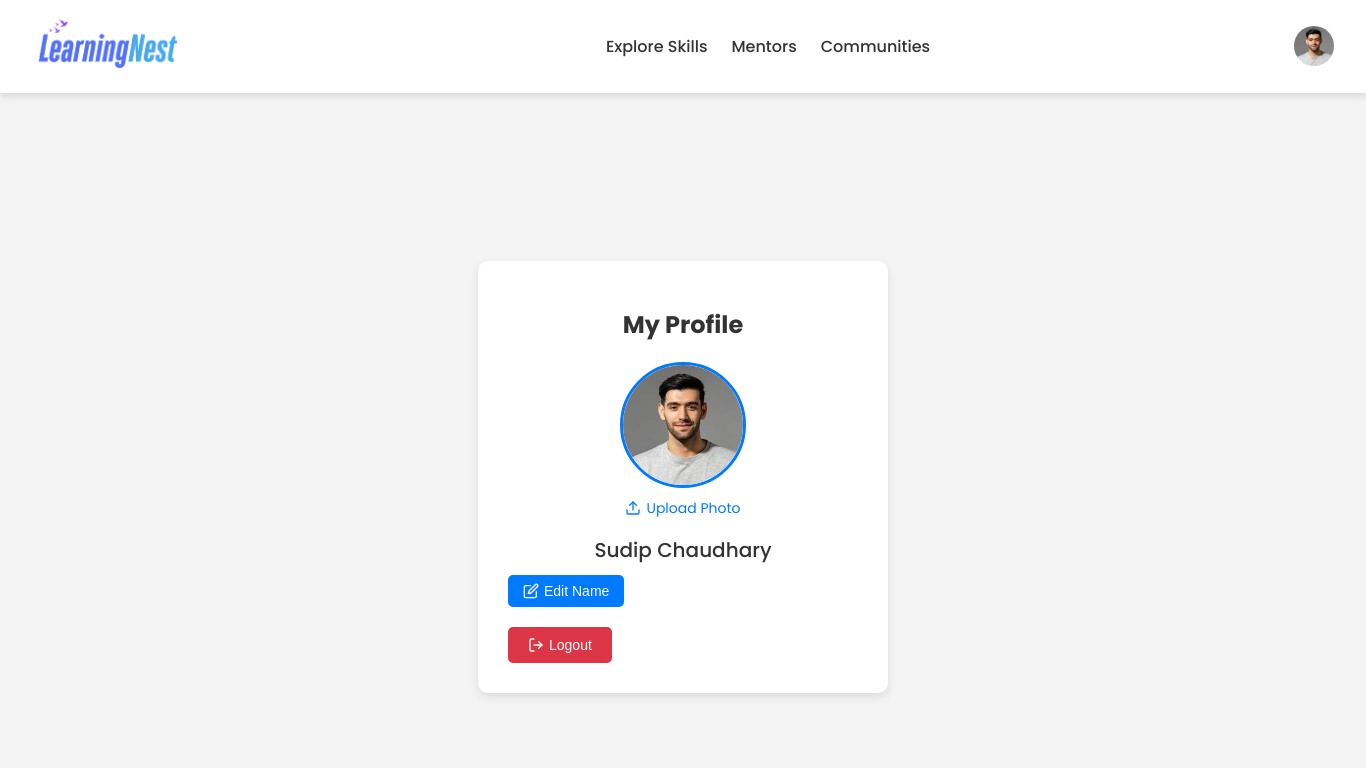
ProfilePage › toggles edit mode for name
Note: Click the edit button to enable editing
Click the button "Edit Name": click(566, 591) [508,575,624,607]
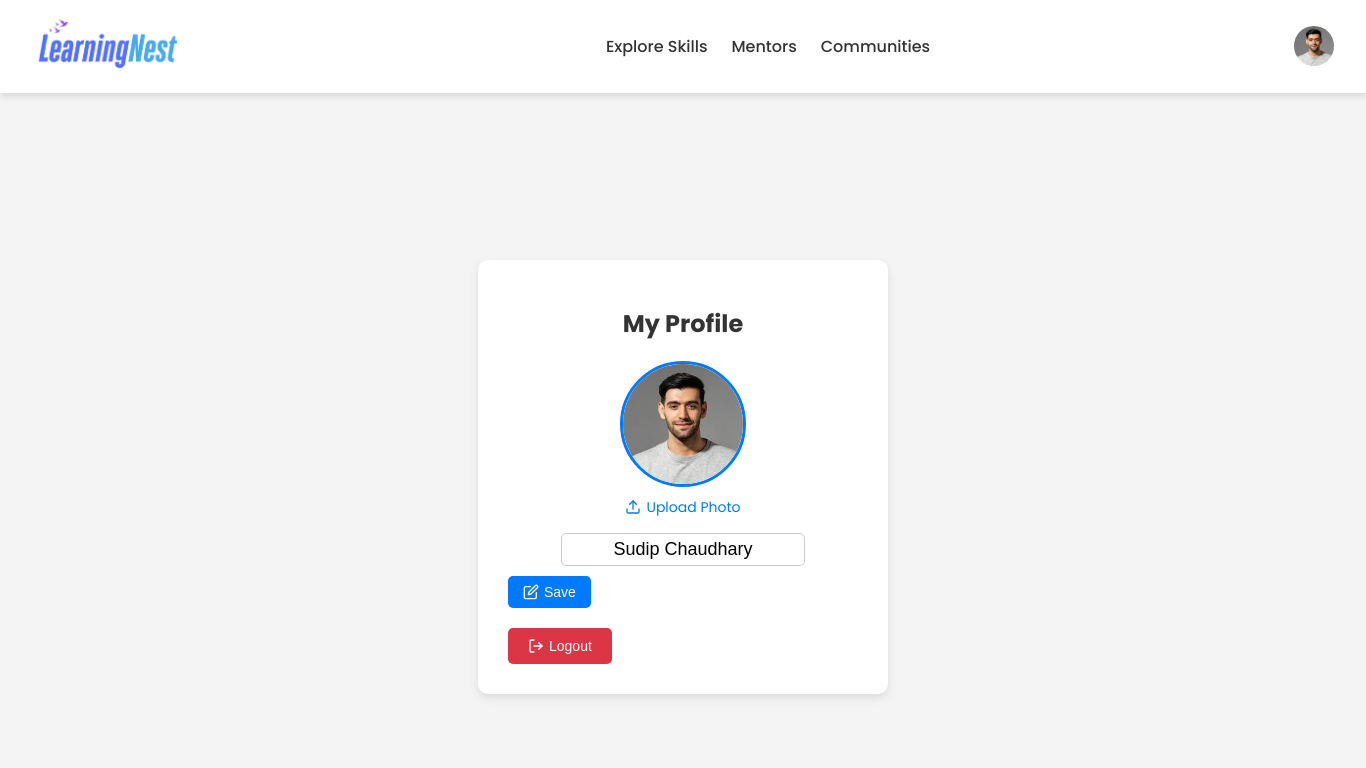
Expected: the field is shown
Note: Change the name in the input
Replace the text in the field with "New Name": (683, 550) [561,533,805,566]
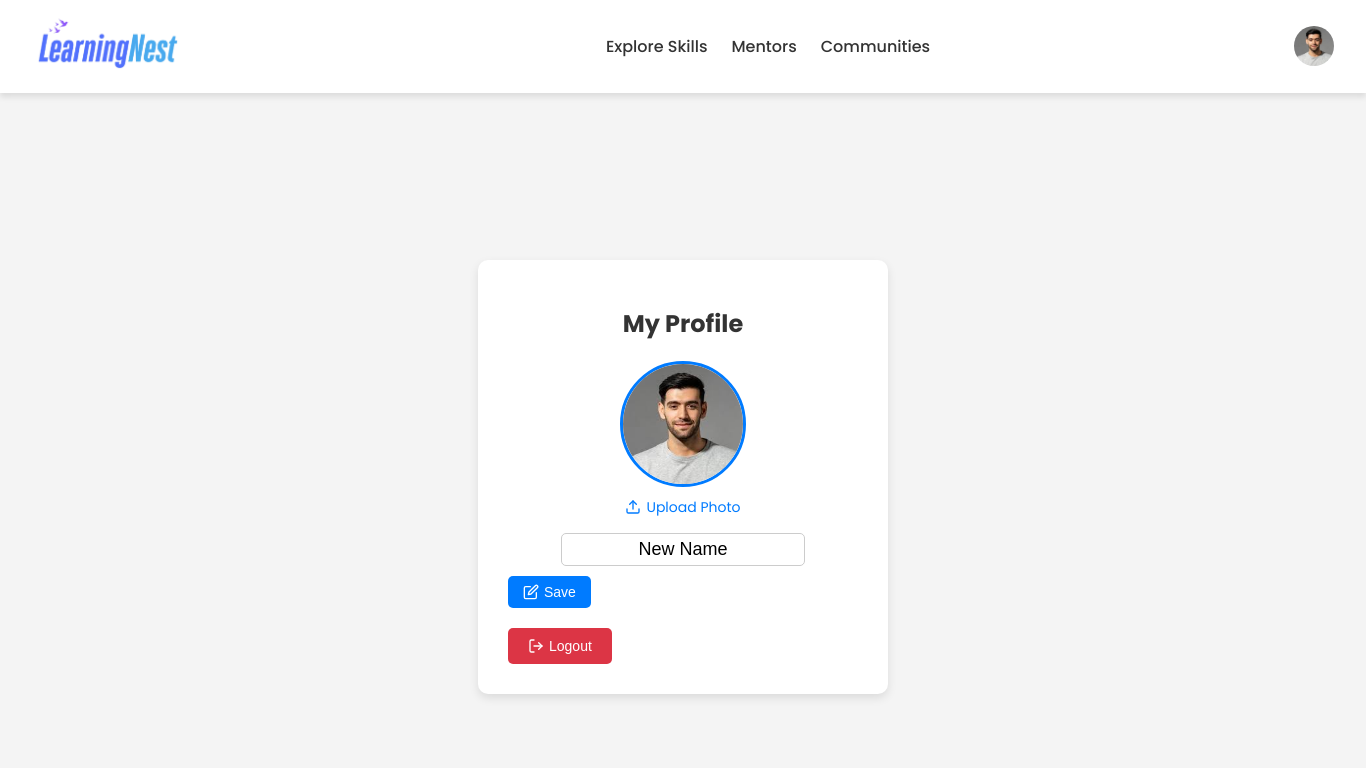
Note: Click the save button to toggle back to view mode
Click the button "Save": click(549, 592) [508,576,591,608]
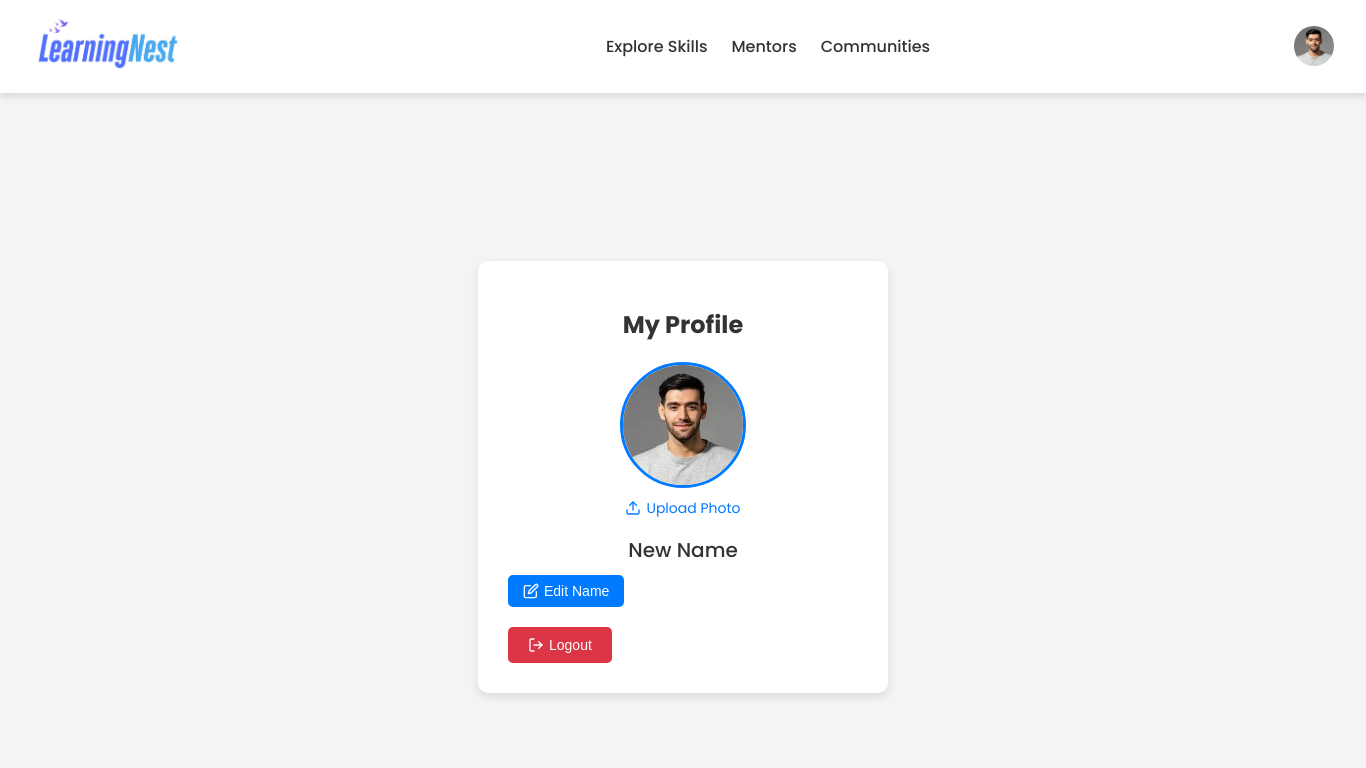
Expected: the heading "New Name" is shown, [628,536,738,564]
